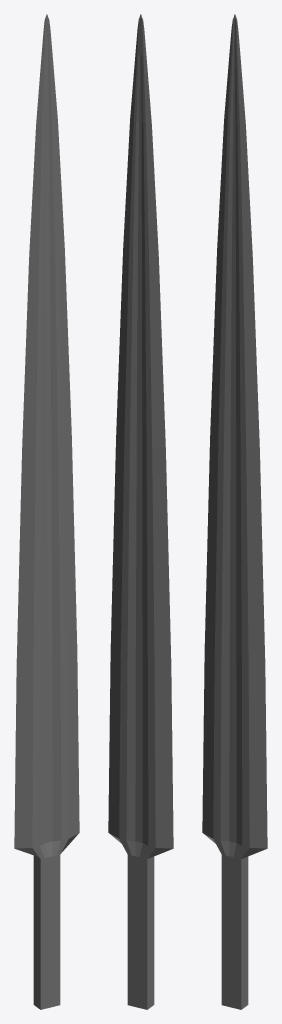
File: ModularSwordKit_Klinge01.fbx
3 views of the same model, side by side, from view 1: azimuth 30°, elevation 25°; view 2: azimuth 150°, elevation 25°; view 3: azimuth 330°, elevation 25° (orthographic).
Visible parts, largest first — view 1: Klinge01; view 2: Klinge01; view 3: Klinge01.
Boxes of the visible parts, <box> form: Klinge01: <box>14,14,79,1009</box>; Klinge01: <box>108,14,173,1009</box>; Klinge01: <box>202,14,267,1009</box>.
Size of the model in its own units: 26.36 by 382 by 4.99.
